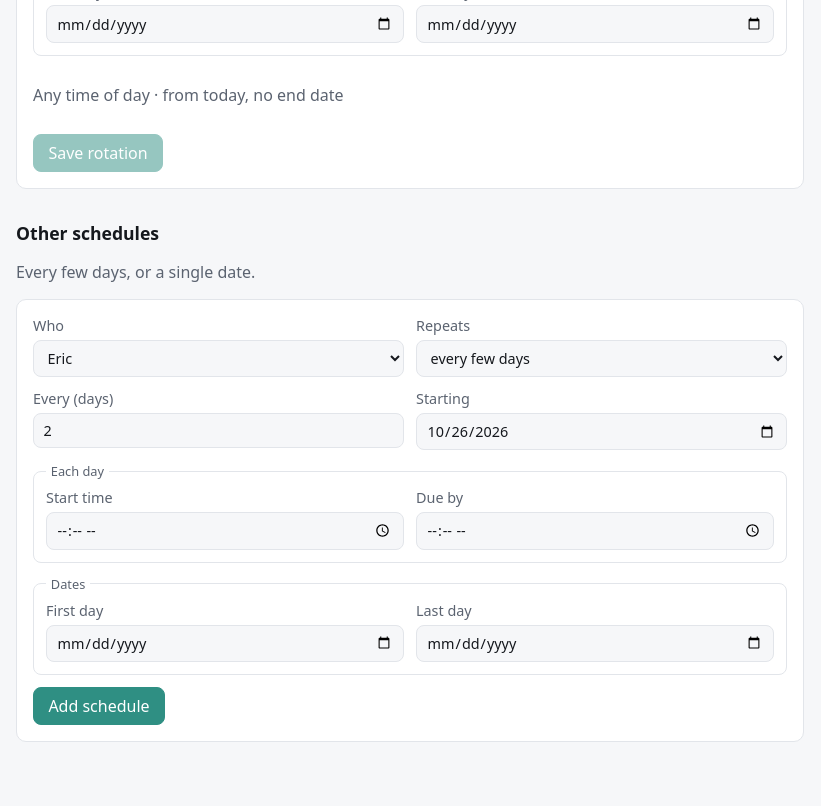
chores › adds an every-few-days schedule and shows API errors
(page scrolled)
Replace the text in the number field labelled "Every (days)" with "3" at [218, 431], box top-left (33, 413), bottom-right (404, 448)
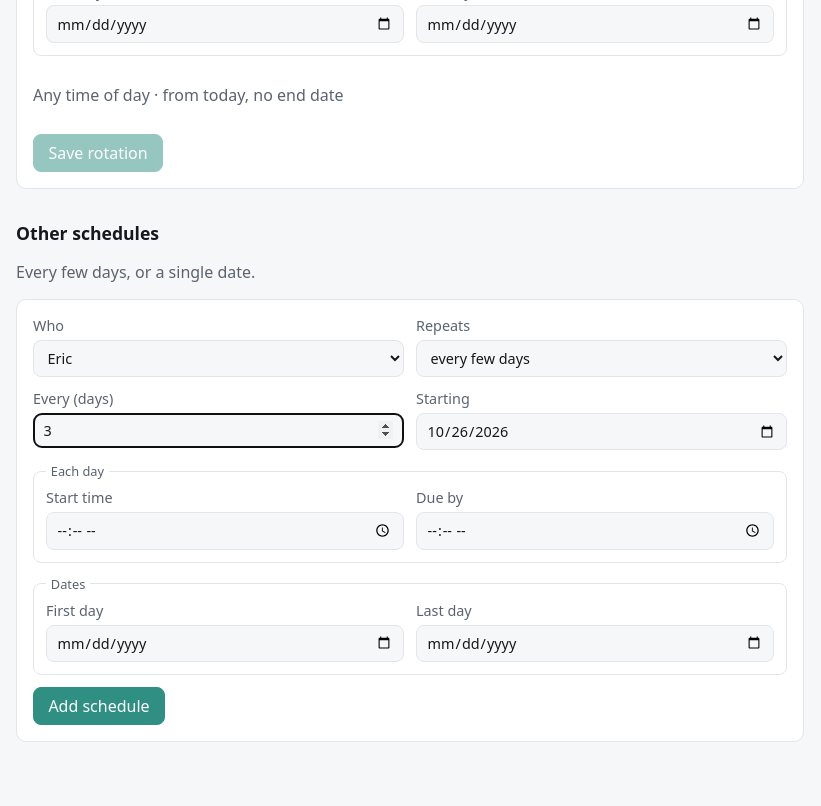
Click the button "Add schedule" at [99, 706], box top-left (33, 687), bottom-right (165, 725)
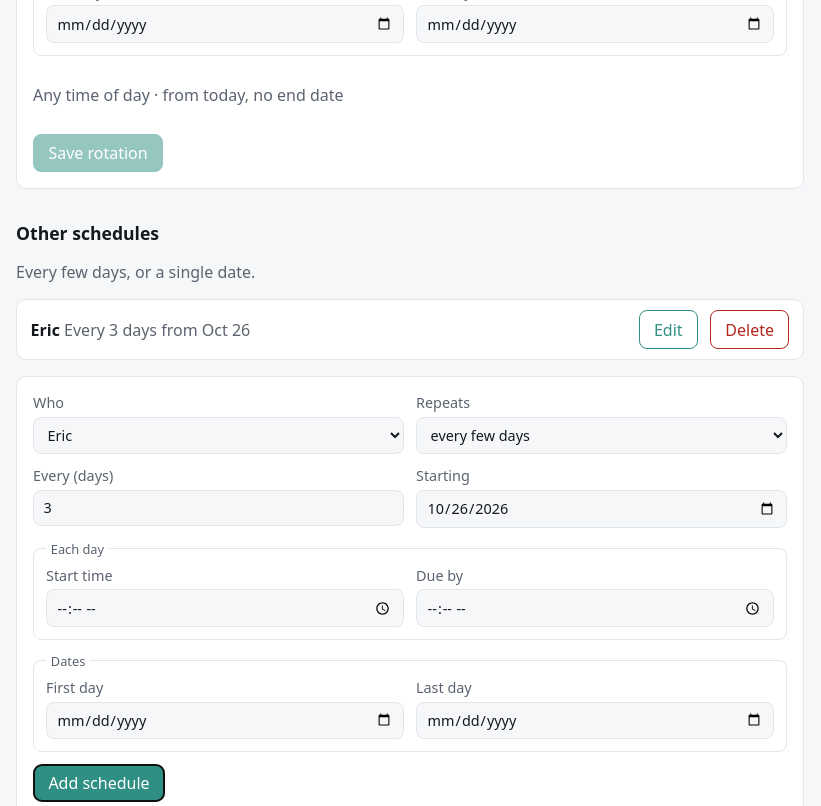
Expected: the text "Every 3 days from Oct 26" is shown, top-left (64, 319), bottom-right (250, 341)
